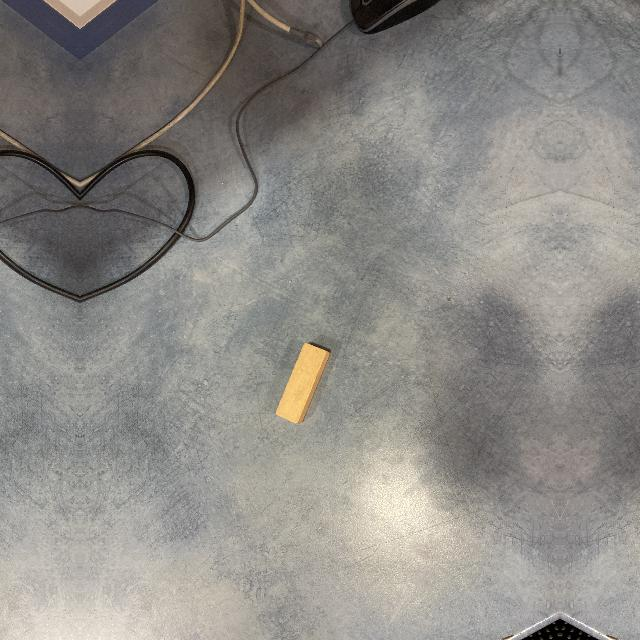jenga: (274, 344, 334, 426)
